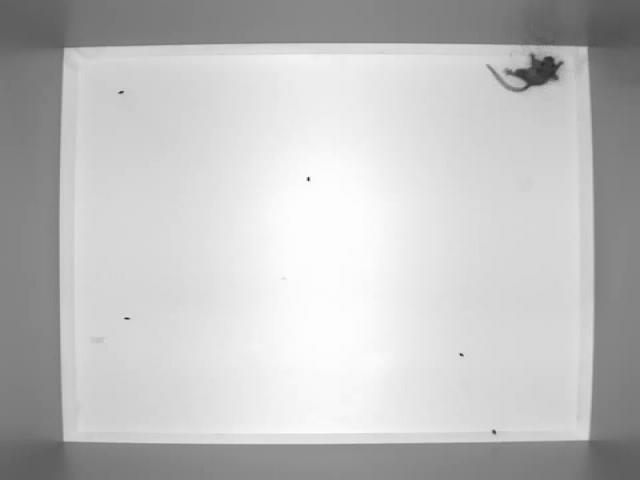Tikus: (487, 52, 567, 95)
